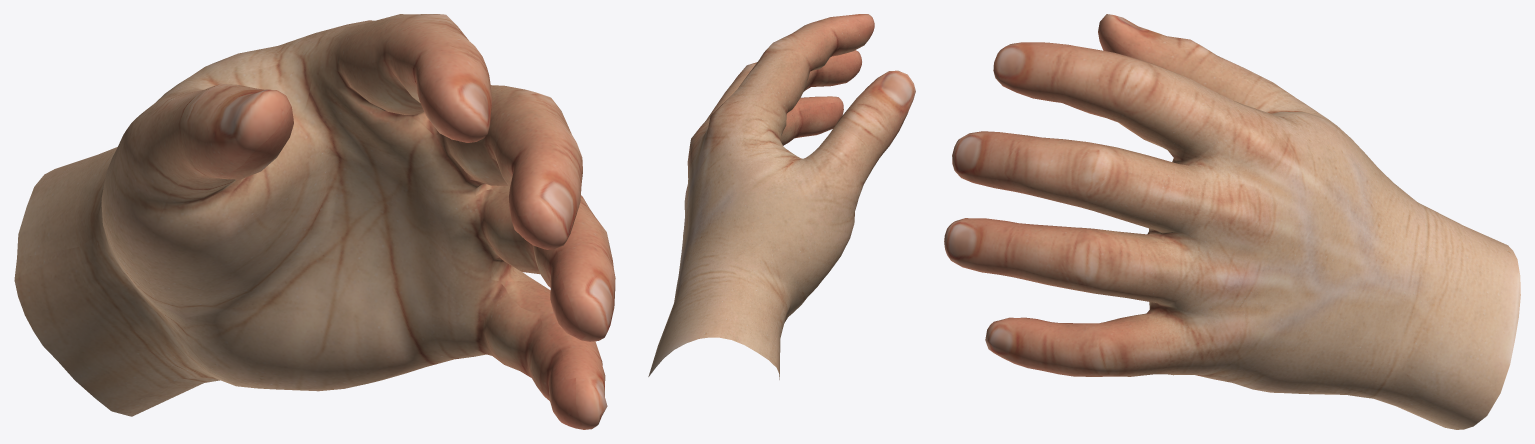
File: hand.glb
The picture shows the model from 3 angles, left to right: view 1: azimuth 30°, elevation 25°; view 2: azimuth 150°, elevation 25°; view 3: azimuth 270°, elevation 25°; orthographic projection. The views are drawn at different scales.
Visible parts, largest first — view 1: handlow; view 2: handlow; view 3: handlow.
Boxes of the visible parts, bbox=[...] form: handlow: bbox=[14, 14, 615, 429]; handlow: bbox=[648, 14, 915, 379]; handlow: bbox=[944, 14, 1520, 429].
Size of the model in its own units: 11.2 by 16.36 by 21.87.
1 material, 1 textured.
